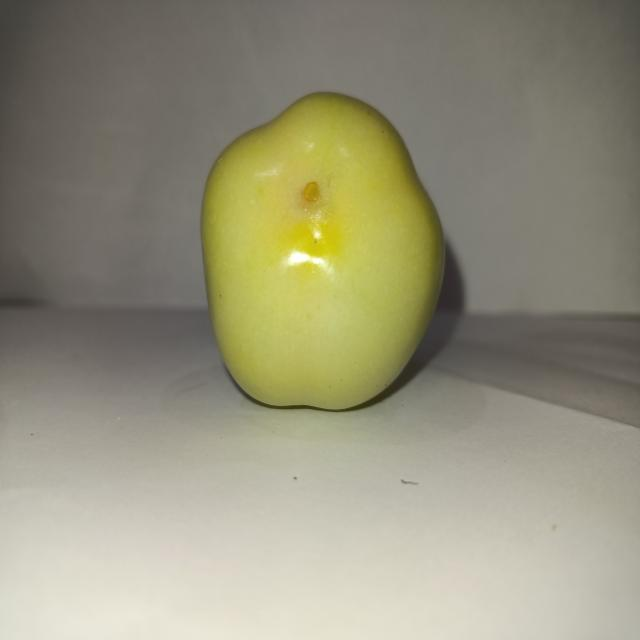Red: (198, 89, 446, 411)
